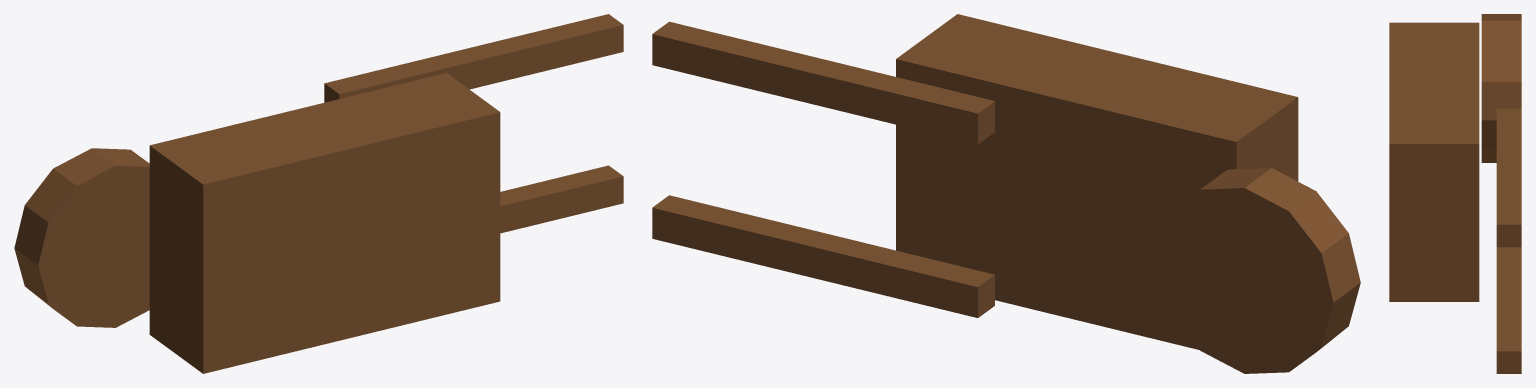
The model's file is SM_CommonWheelbarrow.obj.
The picture shows the model from 3 angles, left to right: view 1: azimuth 30°, elevation 25°; view 2: azimuth 150°, elevation 25°; view 3: azimuth 270°, elevation 25°; orthographic projection. The views are drawn at different scales.
Visible parts, largest first — view 1: SM_CommonWheelbarrow; view 2: SM_CommonWheelbarrow; view 3: SM_CommonWheelbarrow.
Part boxes in pixels (bbox=[...]): SM_CommonWheelbarrow: bbox=[14, 14, 623, 373]; SM_CommonWheelbarrow: bbox=[652, 14, 1360, 373]; SM_CommonWheelbarrow: bbox=[1389, 14, 1521, 373].
Bounding box in the file's own units: 230 × 70 × 53.
